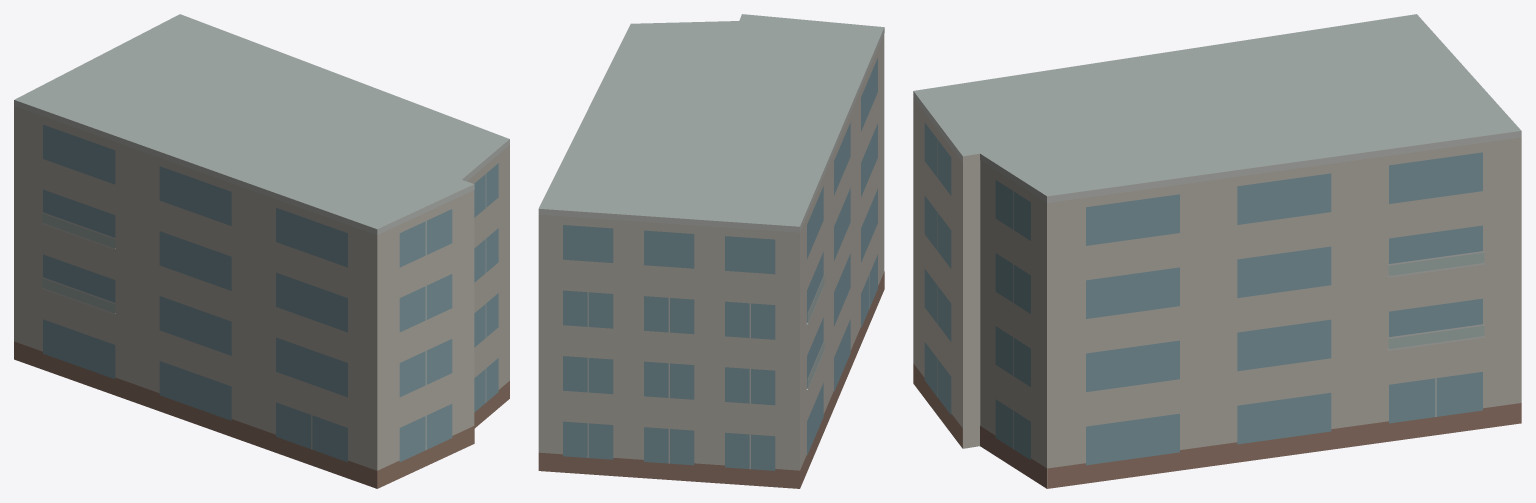
The model's file is survey-upis-32881505.glb.
3 renders of one model, left to right at view 1: azimuth 30°, elevation 25°; view 2: azimuth 150°, elevation 25°; view 3: azimuth 270°, elevation 25°, orthographic. The views are drawn at different scales.
Parts seen in each view (by area): view 1: survey-upis-32881505.tmp; view 2: survey-upis-32881505.tmp; view 3: survey-upis-32881505.tmp.
Part boxes in pixels (box(x1,y1,x2,y2)): survey-upis-32881505.tmp: box(14, 14, 509, 488); survey-upis-32881505.tmp: box(538, 14, 884, 488); survey-upis-32881505.tmp: box(913, 14, 1521, 488).
Size of the model in its own units: 14.58 by 10.9 by 20.55.
